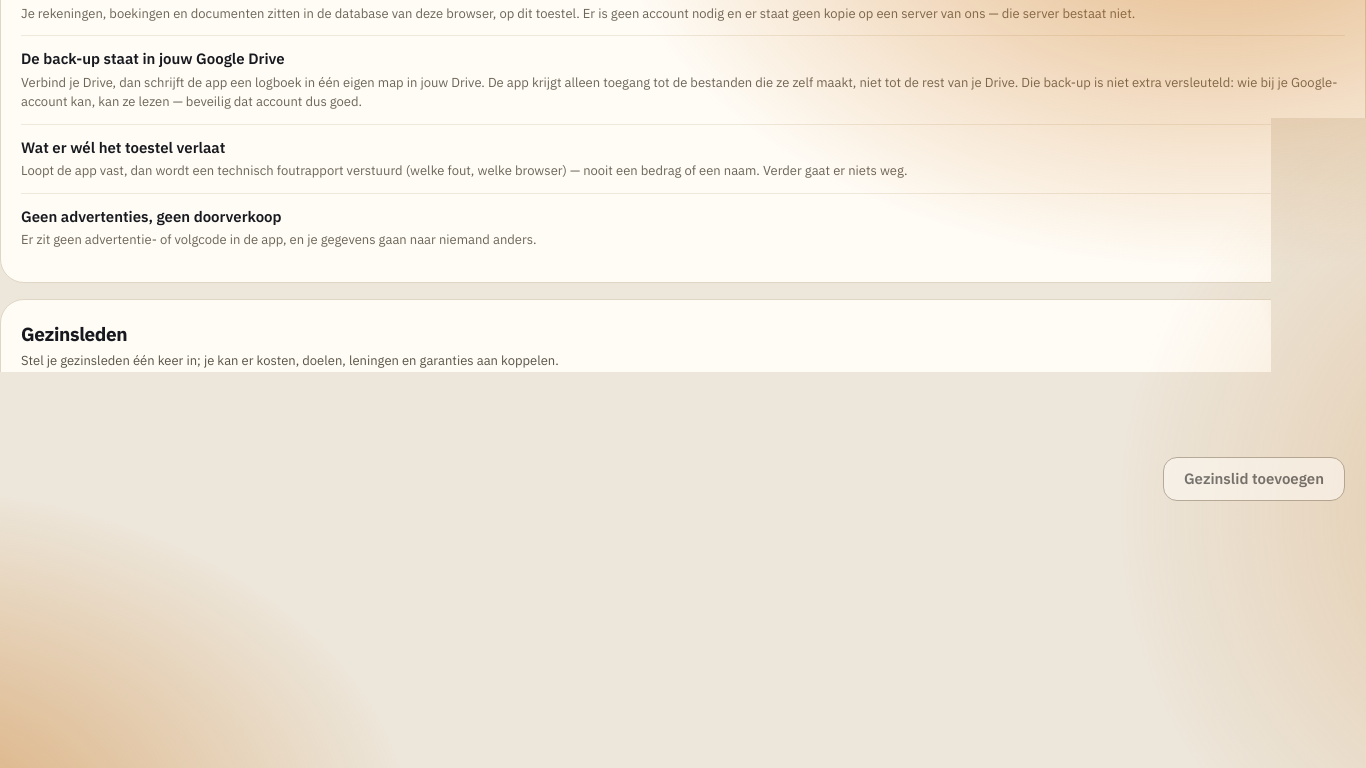
it: InstellingenSectie — begin opnieuw › toont "Alles wissen" pas na een klik op "Begin opnieuw…"
The image size is (1366, 768).
(page scrolled)
Expected: the button "Alles wissen" is not shown
Click the button "Begin opnieuw…" at (100, 725), box 21,703 -> 178,747
(page scrolled)
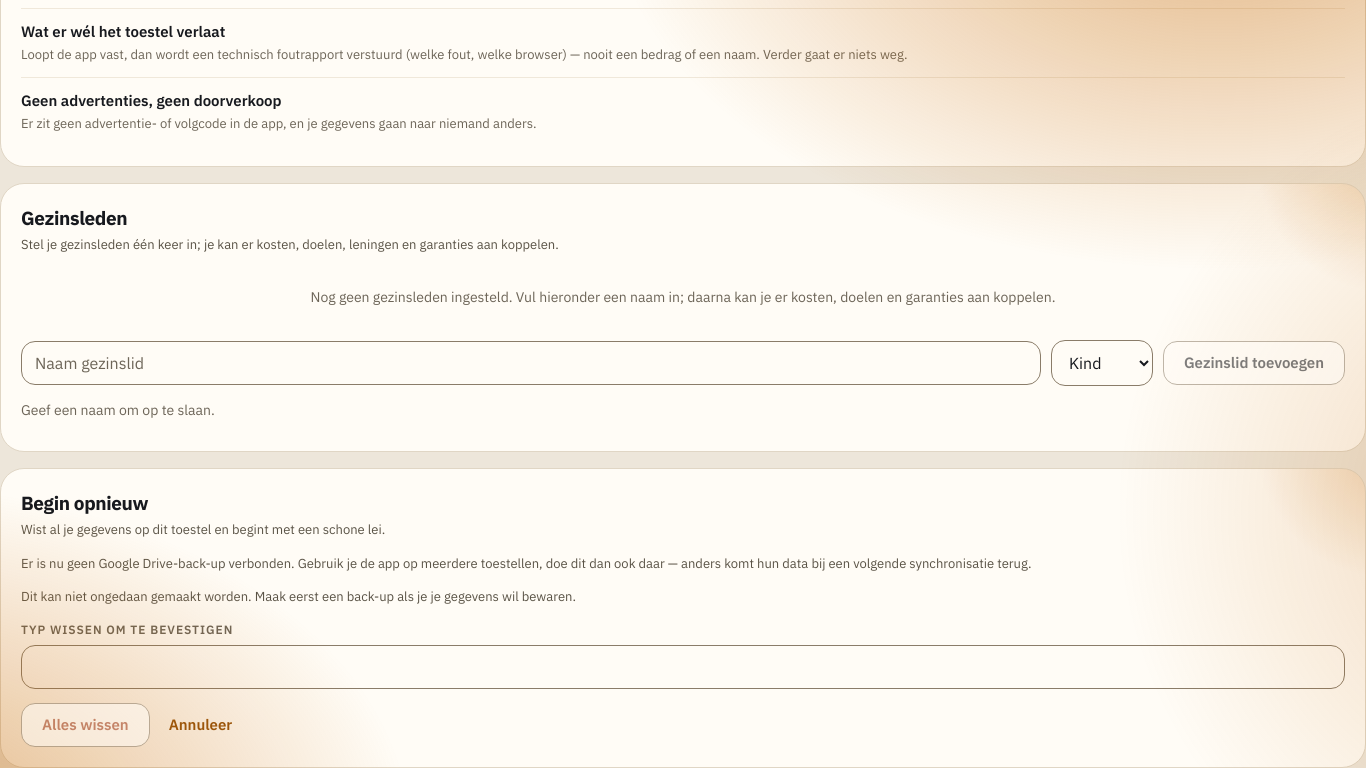
Expected: the button "Alles wissen" is shown, 21,703 -> 150,747
Expected: the field labelled "Typ WISSEN om te bevestigen" is shown, 21,645 -> 1345,689
